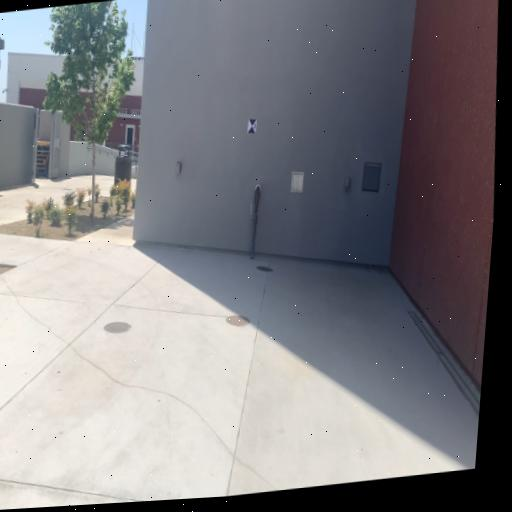target3: (247, 118, 257, 134)
